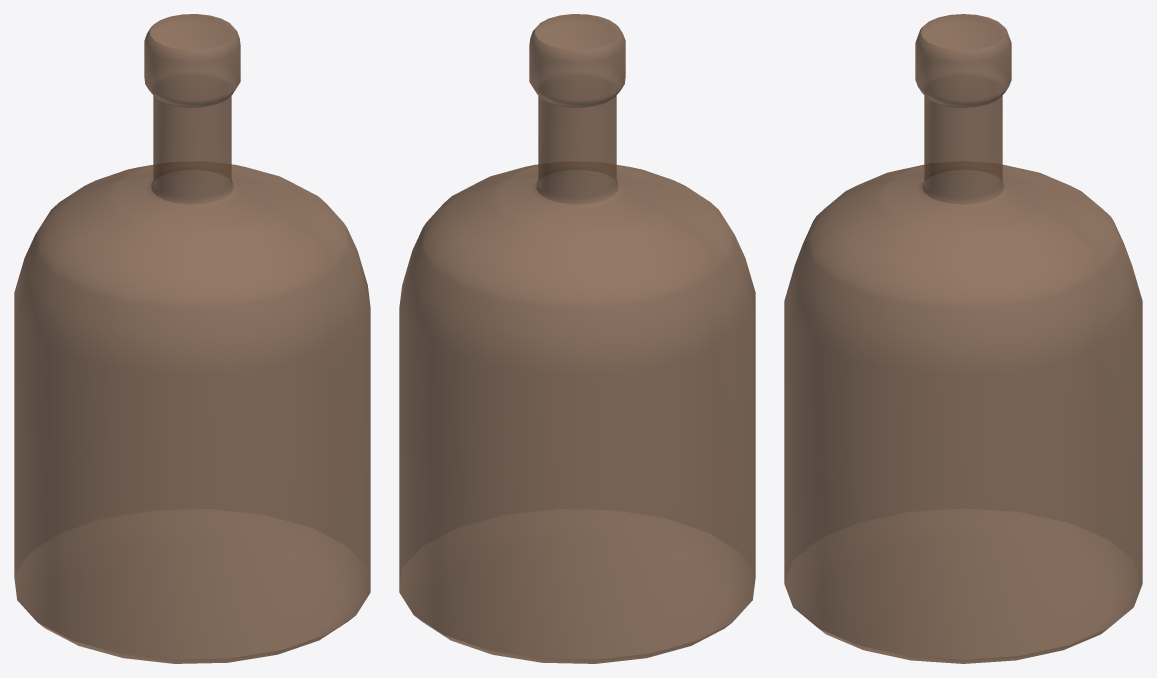
Rendered from rum bottle.fbx.
3 views of the same model, side by side, from view 1: azimuth 30°, elevation 25°; view 2: azimuth 150°, elevation 25°; view 3: azimuth 270°, elevation 25° (orthographic).
Parts seen in each view (by area): view 1: pCylinder1; view 2: pCylinder1; view 3: pCylinder1.
Part boxes in pixels (x1=…): pCylinder1: x1=14, y1=14, x2=370, y2=663; pCylinder1: x1=399, y1=14, x2=755, y2=663; pCylinder1: x1=784, y1=14, x2=1142, y2=663.
Size of the model in its own units: 0.823 by 1.44 by 0.823.
